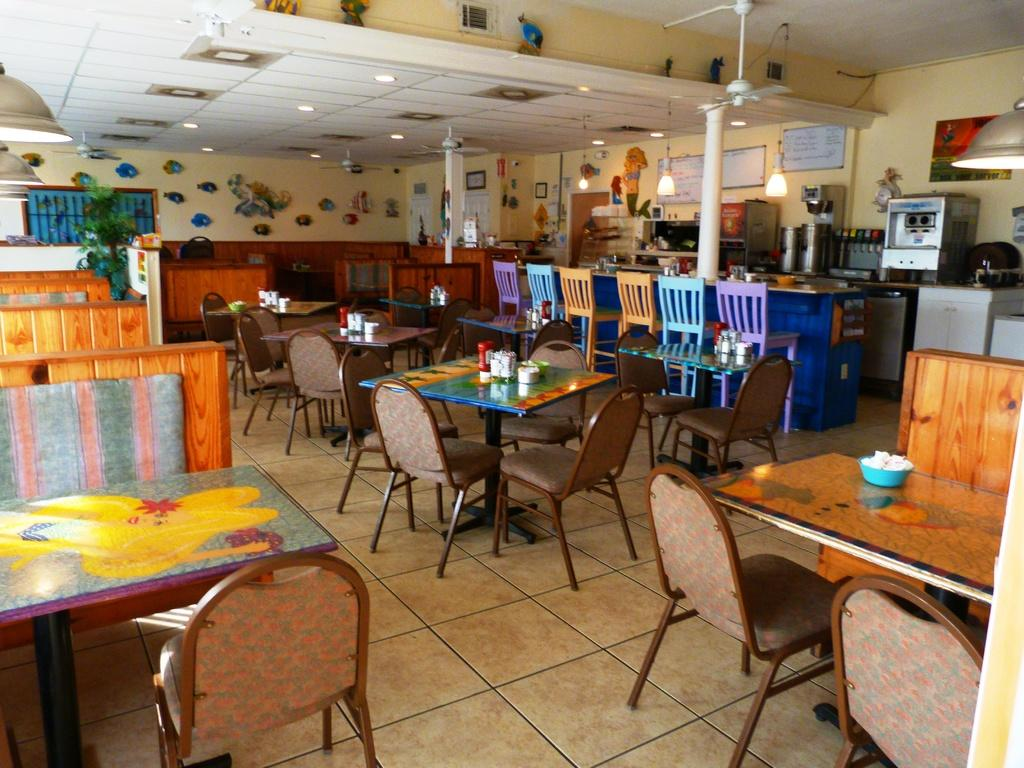Chair: (627, 461, 843, 767), (152, 550, 380, 767), (492, 384, 643, 590), (829, 573, 983, 767), (367, 378, 504, 577), (336, 344, 453, 524), (670, 353, 794, 476)
